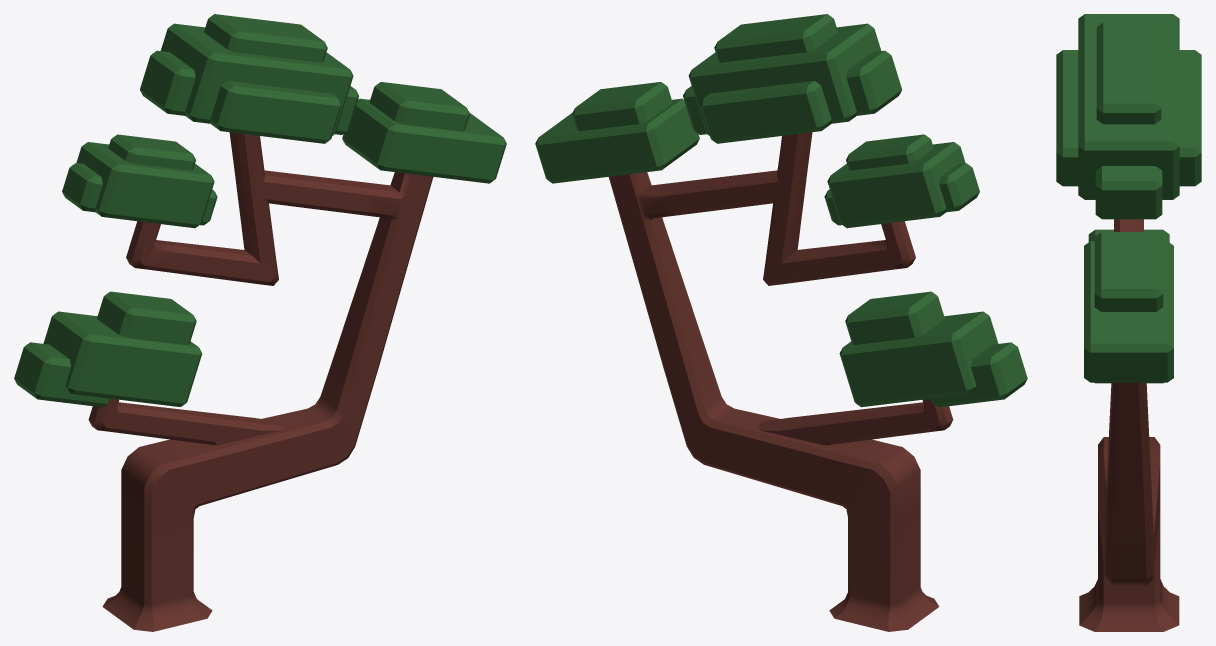
Rendered from Flat_Tree.fbx.
3 views of the same model, side by side, from view 1: azimuth 30°, elevation 25°; view 2: azimuth 150°, elevation 25°; view 3: azimuth 270°, elevation 25° (orthographic). The views are drawn at different scales.
Visible parts, largest first — view 1: Leaves, Flat_Tree; view 2: Leaves, Flat_Tree; view 3: Leaves, Flat_Tree.
Boxes of the visible parts, left/top/right/bottom form: Leaves: left=14, top=14, right=506, bottom=407; Flat_Tree: left=88, top=132, right=433, bottom=631; Leaves: left=535, top=14, right=1027, bottom=407; Flat_Tree: left=609, top=132, right=953, bottom=631; Leaves: left=1056, top=14, right=1201, bottom=383; Flat_Tree: left=1079, top=219, right=1179, bottom=631.
Size of the model in its own units: 18.86 by 22.06 by 4.65.
